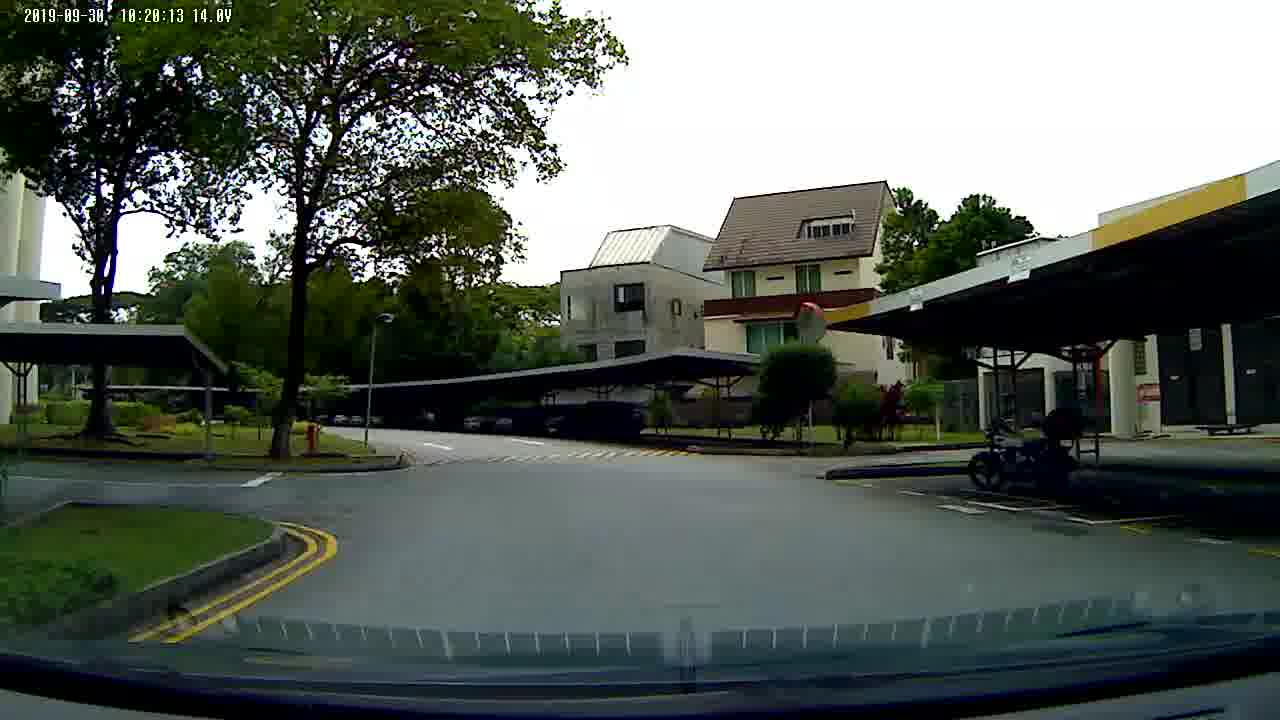car: (543, 398, 650, 444)
